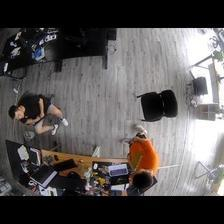normal: (9, 90, 72, 143), (121, 122, 164, 191)
